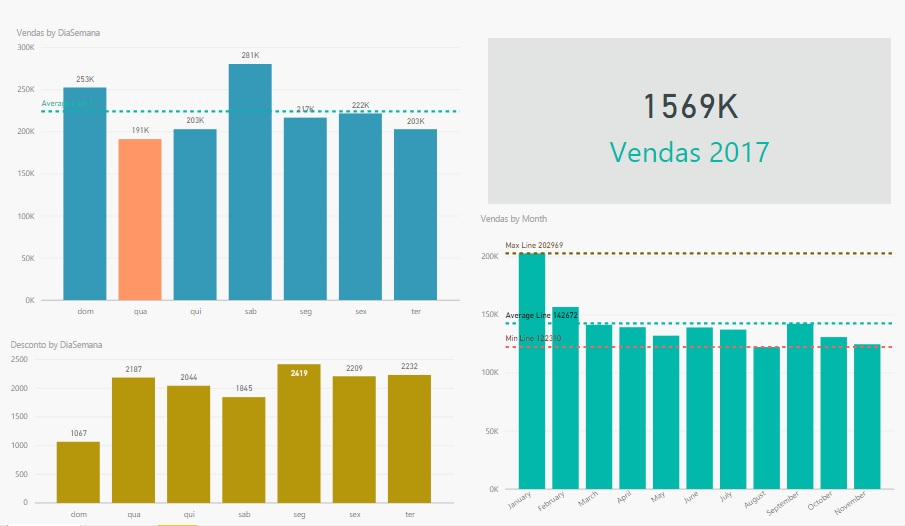

What the dashboard file says about the page in this screenshot:
{"tool":"powerbi","page":{"name":"Page1","canvas":[1280,720],"ordinal":0},"visuals":[{"type":"clusteredColumnChart","fields":{"Y":["Sum(VendasDia.Venda)"],"Category":["VendasDia.DiaSemana"]},"box":[18.3,19.7,635.5,412.8],"z":1},{"type":"clusteredColumnChart","fields":{"Y":["Sum(VendasDia.Venda)"],"Category":["VendasDia.Data.Variation.Date Hierarchy.Month","VendasDia.Data.Variation.Date Hierarchy.Day"]},"box":[672.1,281.8,593.2,438.2],"z":2},{"type":"columnChart","fields":{"Category":["VendasDia.DiaSemana"],"Y":["Sum(VendasDia.Desconto)"]},"box":[9.9,459.3,635.5,259.3],"z":3},{"type":"card","fields":{"Values":["Sum(VendasDia.Venda)"]},"box":[687.6,35.2,567.8,233.9],"z":4},{"type":"textbox","box":[100,100,300,300],"z":5}]}

Visuals, with their boxes on the page's 1280x720 design canvas (x1, y1, x2, y2). These are canvas units, not pixel positions in the 905x526 screenshot, which may show the page scaled, cropped or inside an application window:
clusteredColumnChart - Sum(VendasDia.Venda) x VendasDia.DiaSemana: bbox(18, 20, 654, 432)
clusteredColumnChart - Sum(VendasDia.Venda) x VendasDia.Data.Variation.Date Hierarchy.Month: bbox(672, 282, 1265, 720)
columnChart - VendasDia.DiaSemana x Sum(VendasDia.Desconto): bbox(10, 459, 645, 719)
card - Sum(VendasDia.Venda): bbox(688, 35, 1255, 269)
textbox: bbox(100, 100, 400, 400)
